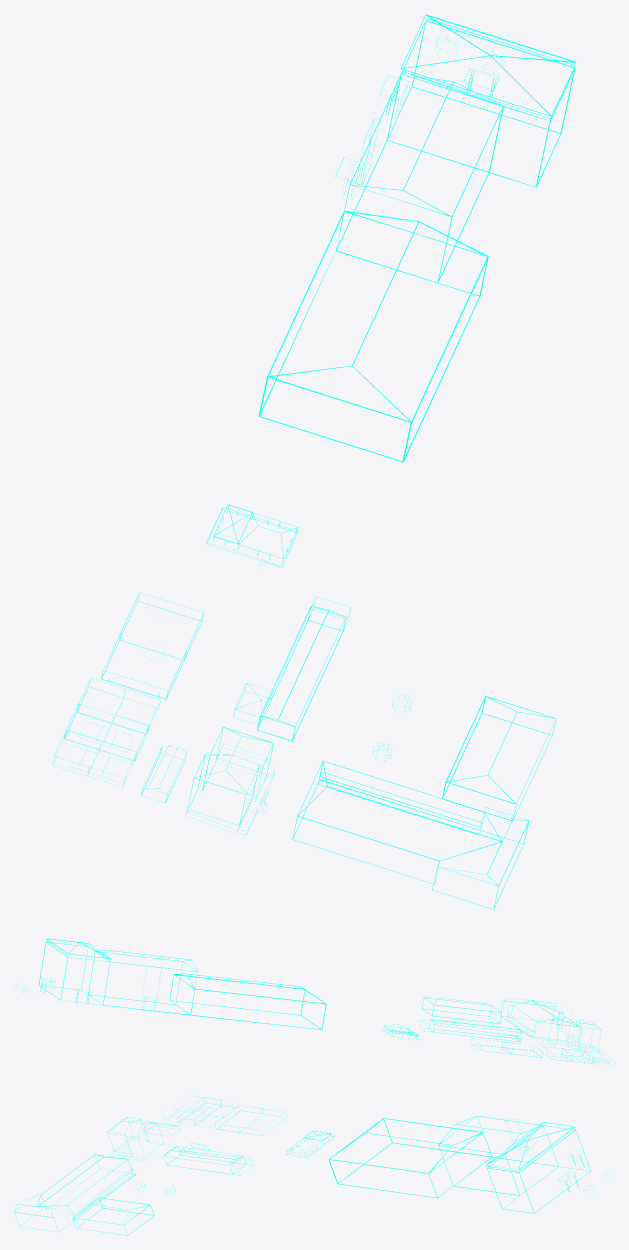
The picture shows the model from 3 angles, top to bottom: view 1: azimuth 30°, elevation 25°; view 2: azimuth 150°, elevation 25°; view 3: azimuth 270°, elevation 25°; orthographic projection. The views are drawn at different scales.
Parts seen in each view (by area): view 1: SketchUp.025; view 2: SketchUp.025; view 3: SketchUp.025.
Boxes of the visible parts, x1,y1,x2,y2 form: SketchUp.025: (52,14,576,909); SketchUp.025: (16,938,614,1065); SketchUp.025: (14,1095,610,1235).
Bounding box in the file's own units: 14.26 × 6.67 × 16.65.
